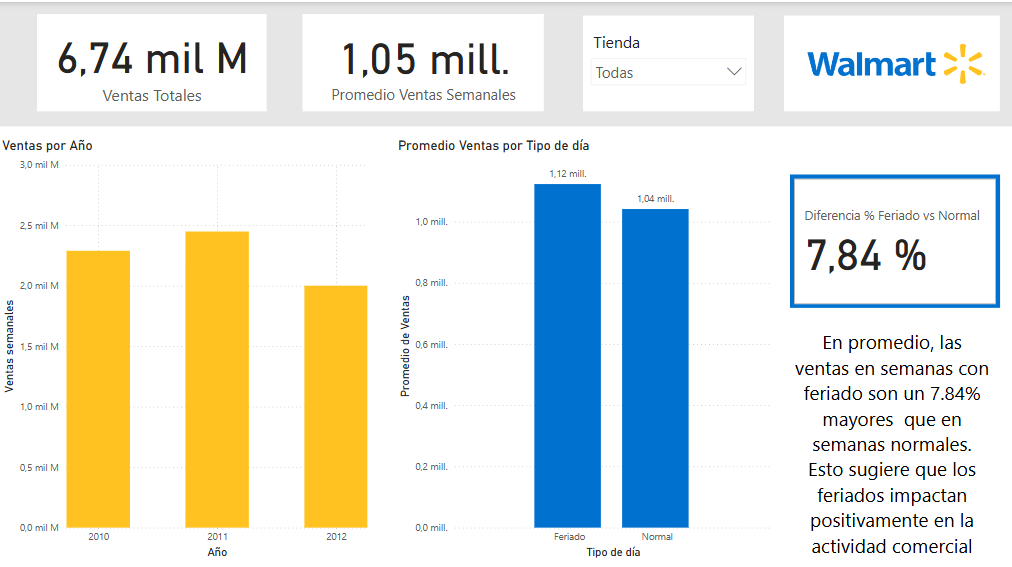

The page's visual inventory and layout, read from the dashboard file:
{"tool":"powerbi","page":{"name":"Ventas feriados","canvas":[1280,720],"ordinal":0},"visuals":[{"type":"shape","box":[0,0,1279.4,156.9],"z":0},{"type":"card","fields":{"Values":["Walmart_sales.Ventas Totales"]},"box":[49.1,15.1,289.1,122.8],"z":1000},{"type":"card","fields":{"Values":["Walmart_sales.Promedio Ventas Semanales"]},"box":[383.6,15.1,304.3,122.8],"z":2000},{"type":"slicer","fields":{"Values":["Walmart_sales.Tienda"]},"box":[737,17,215.4,120.9],"z":3000},{"type":"clusteredColumnChart","title":"Promedio Ventas por Tipo de día","fields":{"Category":["Tabla Feriado vs Normal.TipoDia"],"Y":["Tabla Feriado vs Normal.Promedio Ventas Tipo Día"]},"box":[498.9,170.1,480,534.8],"z":4000},{"type":"cardVisual","fields":{"Data":["Walmart_sales.Diferencia % Feriado vs Normal"]},"box":[997.8,217.3,264.6,168.2],"z":5000},{"type":"textbox","box":[997.9,406.6,257.2,298.9],"z":6000},{"type":"image","box":[990.2,17,272.1,120.9],"z":7000},{"type":"columnChart","title":"Ventas por Año","fields":{"Category":["Walmart_sales.Fecha.Variación.Date Hierarchy.Year"],"Y":["Sum(Walmart_sales.Ventas semanales)"]},"box":[0,170.1,470.6,534.8],"z":8000}]}

Visuals, with their boxes in screenshot pixels (x1, y1, x2, y2), scaled from the page's 1280x720 canvas onto the 1012x567 screenshot:
shape: detection(0, 0, 1011, 124)
card - Walmart_sales.Ventas Totales: detection(39, 12, 267, 109)
card - Walmart_sales.Promedio Ventas Semanales: detection(303, 12, 544, 109)
slicer - Walmart_sales.Tienda: detection(583, 13, 753, 109)
"Promedio Ventas por Tipo de día" clusteredColumnChart: detection(394, 134, 774, 555)
cardVisual - Walmart_sales.Diferencia % Feriado vs Normal: detection(789, 171, 998, 304)
textbox: detection(789, 320, 992, 556)
image: detection(783, 13, 998, 109)
"Ventas por Año" columnChart: detection(0, 134, 372, 555)
